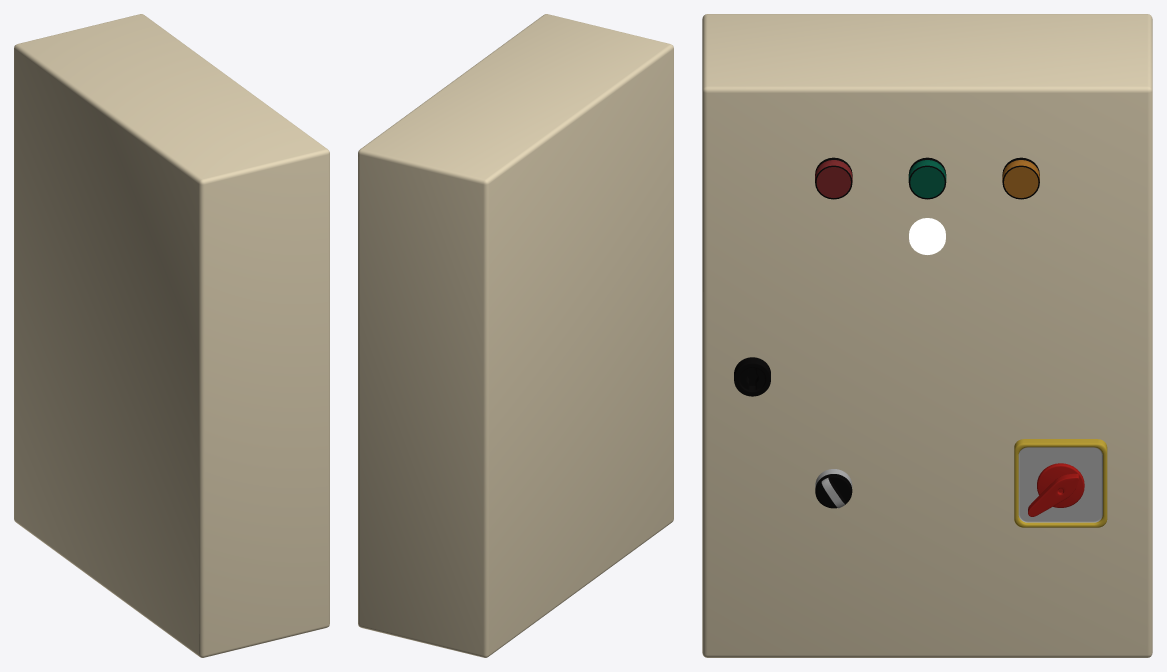
File: 照明控制器.glb
3 views of the same model, side by side, from view 1: azimuth 30°, elevation 25°; view 2: azimuth 150°, elevation 25°; view 3: azimuth 270°, elevation 25° (orthographic). The views are drawn at different scales.
Visible parts, largest first — view 1: 33照明控制器; view 2: 33照明控制器; view 3: 33照明控制器, 立方体.501, 柱体.1006, 柱体.1008, 柱体.1009, 柱体.1007.
Boxes of the visible parts, <box> form: 33照明控制器: <box>14,14,329,657</box>; 33照明控制器: <box>358,14,673,657</box>; 33照明控制器: <box>702,14,1152,657</box>; 立方体.501: <box>1014,439,1107,527</box>; 柱体.1006: <box>815,157,1039,199</box>; 柱体.1008: <box>815,469,852,508</box>; 柱体.1009: <box>734,357,770,396</box>; 柱体.1007: <box>909,218,945,254</box>.
Bounding box in the file's own units: 0.2273 × 0.7 × 0.5.
